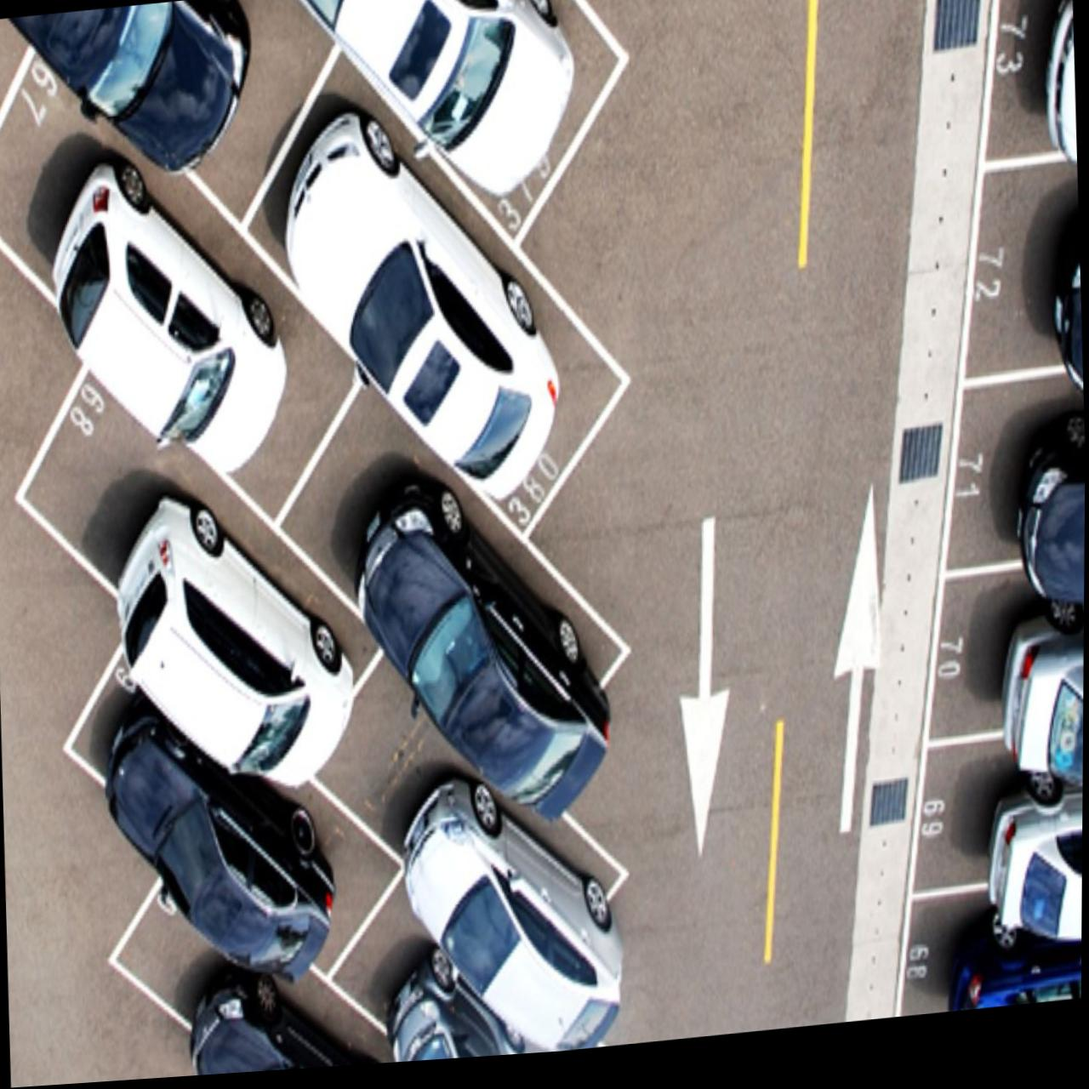cars: (305, 133, 575, 556), (340, 633, 646, 992), (38, 179, 317, 478), (50, 455, 324, 750), (104, 713, 363, 985), (382, 0, 613, 254), (125, 914, 362, 1080), (930, 731, 1083, 937), (354, 888, 519, 1065), (909, 878, 1082, 1015)
